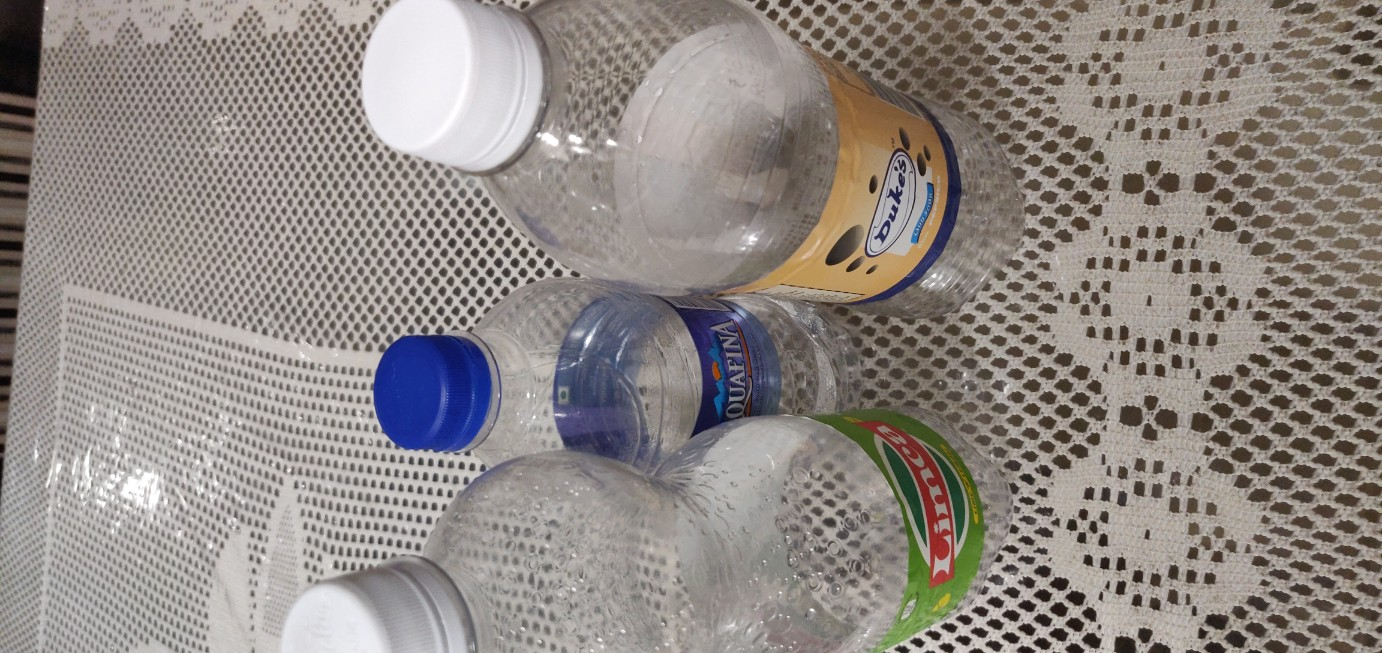Electronics: (330, 2, 1063, 344), (237, 392, 1028, 653), (329, 266, 922, 491)
